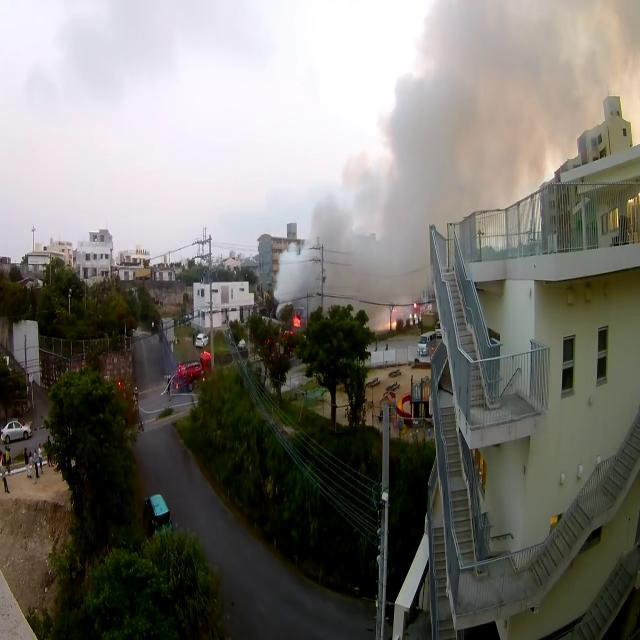Fire: (292, 314, 302, 329)
